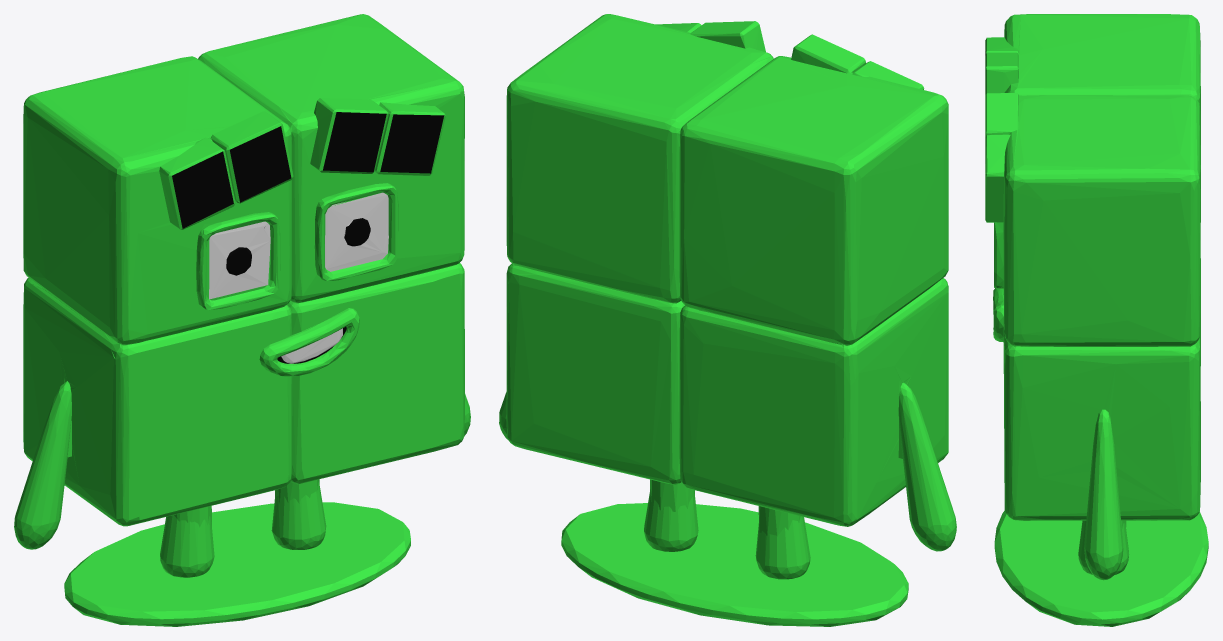
File: NumberBlock4.fbx
3 views of the same model, side by side, from view 1: azimuth 30°, elevation 25°; view 2: azimuth 150°, elevation 25°; view 3: azimuth 270°, elevation 25° (orthographic). The views are drawn at different scales.
Parts seen in each view (by area): view 1: NumberBlock4; view 2: NumberBlock4; view 3: NumberBlock4.
Boxes of the visible parts, bbox=[...] form: NumberBlock4: bbox=[14, 14, 470, 626]; NumberBlock4: bbox=[499, 14, 956, 626]; NumberBlock4: bbox=[985, 14, 1208, 626].
Size of the model in its own units: 507 by 533 by 226.
